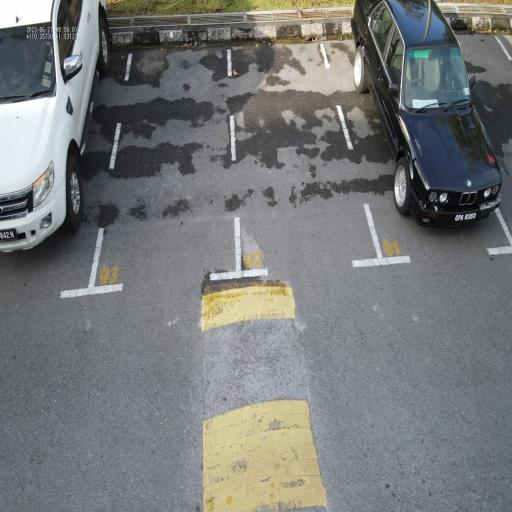Empty: (83, 38, 245, 304), (226, 32, 392, 284)
